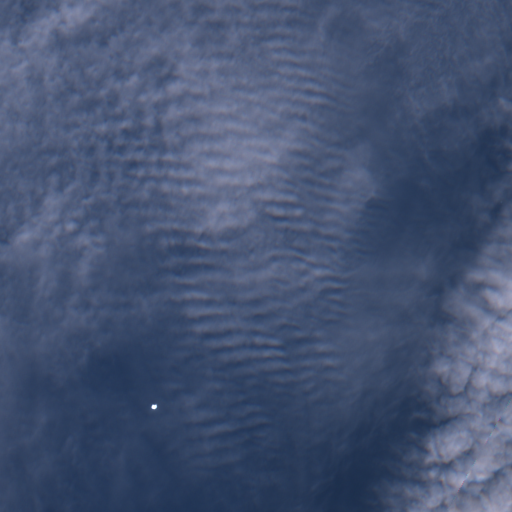Iceberg: (151, 404, 156, 409)
